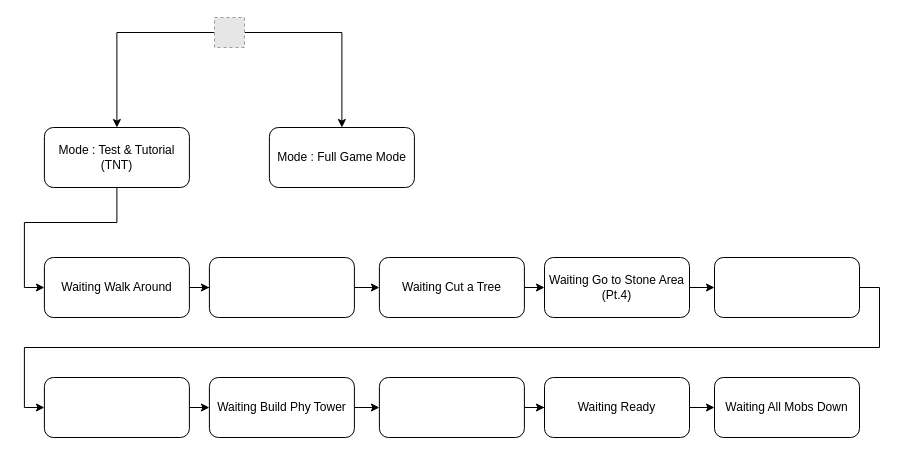
Some shapes in this 906 by 455 pixel diagram are drawn without their labels. Grey dashed boxes stand in for pictures. The shapes that lost their labels are listed below. From the top down, each one's centre as x and y in pixels, then its label:
At (281,287): "Waiting Go to Tree Area (Pt.2)".
At (787,287): "Waiting Mine Stone".
At (116,407): "Waiting Go to Build Area".
At (451,407): "Waiting Build Finished".
